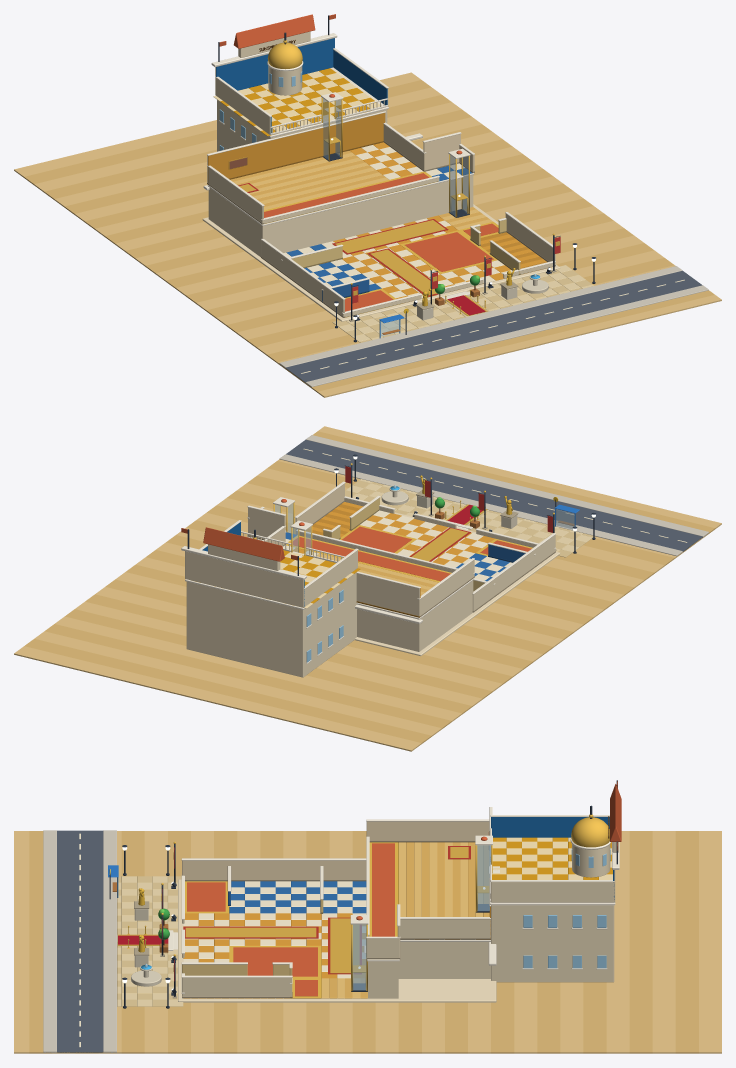
Rendered from shell.glb.
3 renders of one model, top to bottom at view 1: azimuth 30°, elevation 25°; view 2: azimuth 150°, elevation 25°; view 3: azimuth 270°, elevation 25°, orthographic. The views are drawn at different scales.
Parts seen in each view (by area): view 1: grounds, floor_floor_1, building, floor_sun_terrace, crown, lift_floor_1, grand_2, lift_sun_terrace, dome, grand_4, grand_3; view 2: grounds, floor_sun_terrace, building, floor_floor_1, crown, grand_2, grand_4, lift_sun_terrace; view 3: grounds, building, floor_floor_1, floor_sun_terrace, crown, lift_sun_terrace, lift_floor_1, dome, grand_4, grand_2, grand_3.
Part boxes in pixels (x1,y1,x2,y2): grounds: (14, 72, 721, 397); floor_floor_1: (207, 111, 474, 256); building: (202, 204, 560, 321); floor_sun_terrace: (213, 38, 388, 151); crown: (203, 14, 422, 190); lift_floor_1: (446, 148, 470, 217); grand_2: (349, 233, 560, 321); lift_sun_terrace: (320, 92, 343, 161); dome: (267, 42, 302, 69); grand_4: (416, 268, 518, 320); grand_3: (356, 267, 551, 320); grounds: (14, 426, 721, 751); floor_sun_terrace: (185, 520, 360, 677); building: (294, 481, 560, 656); floor_floor_1: (247, 505, 474, 651); crown: (181, 527, 422, 624); grand_2: (345, 463, 556, 550); grand_4: (416, 475, 518, 528); lift_sun_terrace: (290, 520, 312, 557); grounds: (14, 830, 721, 1053); building: (168, 858, 496, 1002); floor_floor_1: (366, 807, 492, 998); floor_sun_terrace: (490, 815, 615, 982); crown: (488, 780, 621, 965); lift_sun_terrace: (475, 835, 499, 912); lift_floor_1: (350, 915, 368, 991); dome: (571, 817, 609, 847); grand_4: (134, 888, 149, 967); grand_2: (158, 841, 176, 998); grand_3: (118, 881, 176, 995).
Size of the model in its own units: 34 by 10.53 by 46.
